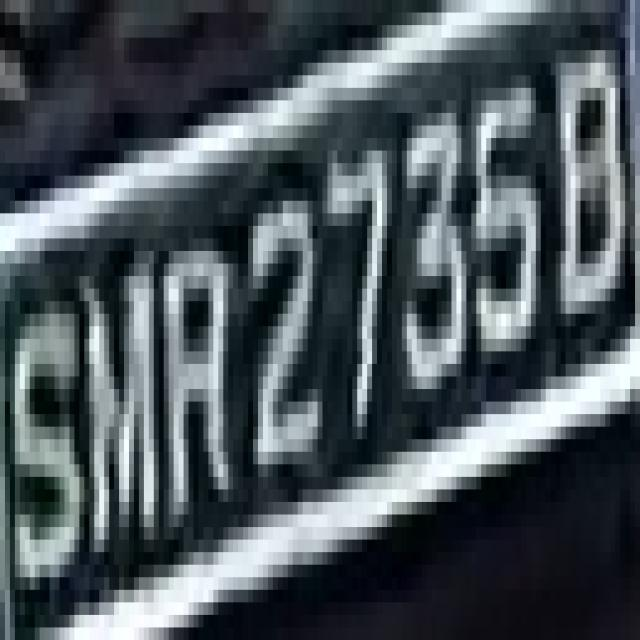2: (228, 163, 332, 527)
3: (392, 75, 461, 427)
5: (456, 50, 546, 389)
7: (307, 113, 402, 464)
B: (541, 0, 620, 339)
M: (79, 226, 159, 565)
R: (154, 213, 223, 502)
S: (0, 288, 84, 589)
